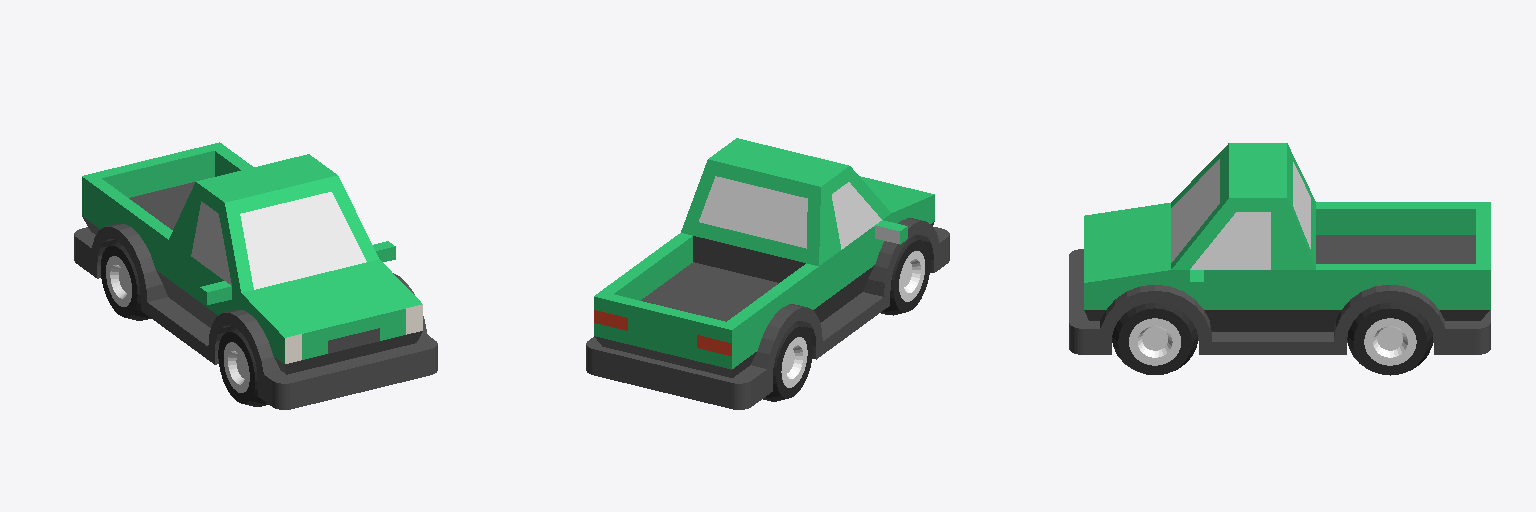
Rendered from truck.obj.
The picture shows the model from 3 angles: view 1: azimuth 30°, elevation 25°; view 2: azimuth 150°, elevation 25°; view 3: azimuth 270°, elevation 25°; orthographic projection.
Visible parts, largest first — view 1: body, wheel_backRight, wheel_frontRight; view 2: body, wheel_frontRight, wheel_backRight; view 3: body, wheel_frontLeft, wheel_backLeft.
Part boxes in pixels (x1,y1,x2,y2): body: (74,142,437,409); wheel_backRight: (101,240,150,320); wheel_frontRight: (218,327,268,406); body: (586,138,949,409); wheel_frontRight: (881,235,930,315); wheel_backRight: (763,321,812,401); body: (1069,143,1490,354); wheel_frontLeft: (1112,303,1197,374); wheel_backLeft: (1347,302,1432,375).
Size of the model in its own units: 59.06 by 51.18 by 114.